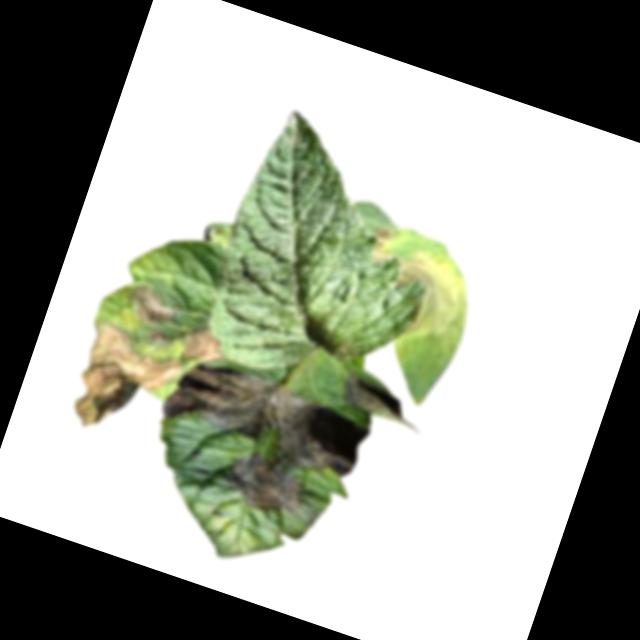Late_blight: (139, 350, 375, 534), (58, 318, 188, 452), (347, 236, 473, 352), (334, 366, 427, 431), (173, 321, 229, 373), (122, 280, 179, 328), (371, 222, 400, 244)
healthy: (191, 105, 468, 414)
